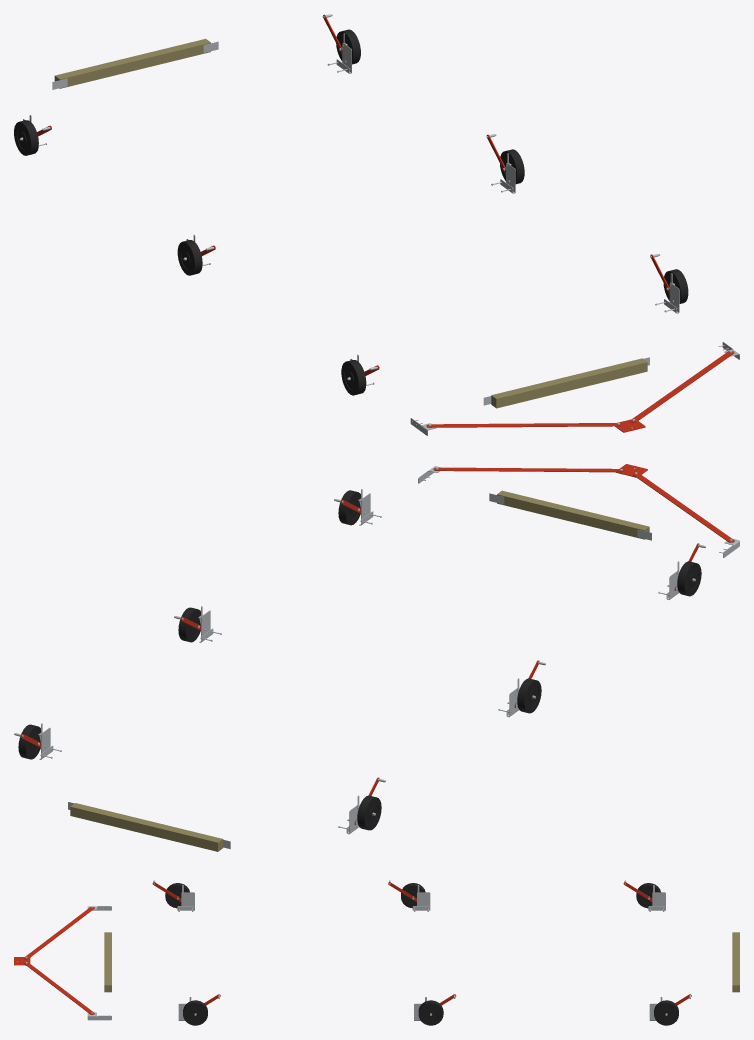
3 views of the same model, one above another, from view 1: azimuth 30°, elevation 25°; view 2: azimuth 150°, elevation 25°; view 3: azimuth 270°, elevation 25° (orthographic). The views are drawn at different scales.
Parts seen in each view (by area): view 1: b453, b455, b437, b212, b348, b76, b435; view 2: b455, b453, b435, b212, b76, b348, b437; view 3: b144, b8, b280, b453, b455, b435, b437, b76, b212, b348, b207, b71 (+1 smaller).
Part boxes in pixels (bbox=[...]): b453: bbox=[491, 358, 647, 408]; b455: bbox=[54, 38, 210, 88]; b437: bbox=[426, 423, 622, 427]; b212: bbox=[177, 240, 202, 275]; b348: bbox=[14, 120, 38, 155]; b76: bbox=[341, 360, 366, 395]; b435: bbox=[630, 351, 734, 422]; b455: bbox=[70, 803, 223, 851]; b453: bbox=[497, 490, 649, 539]; b435: bbox=[433, 467, 624, 472]; b212: bbox=[517, 678, 541, 713]; b76: bbox=[677, 561, 701, 596]; b348: bbox=[357, 795, 381, 830]; b437: bbox=[632, 472, 734, 542]; b144: bbox=[418, 1000, 443, 1025]; b8: bbox=[183, 1000, 207, 1025]; b280: bbox=[654, 1000, 678, 1025]; b453: bbox=[104, 932, 111, 992]; b455: bbox=[732, 932, 739, 992]; b435: bbox=[24, 962, 94, 1014]; b437: bbox=[24, 906, 94, 959]; b76: bbox=[165, 883, 189, 908]; b212: bbox=[401, 883, 425, 908]; b348: bbox=[636, 883, 660, 908]; b207: bbox=[412, 892, 430, 910]; b71: bbox=[177, 892, 194, 910].
Size of the model in its own units: 4590 by 481 by 11560.
